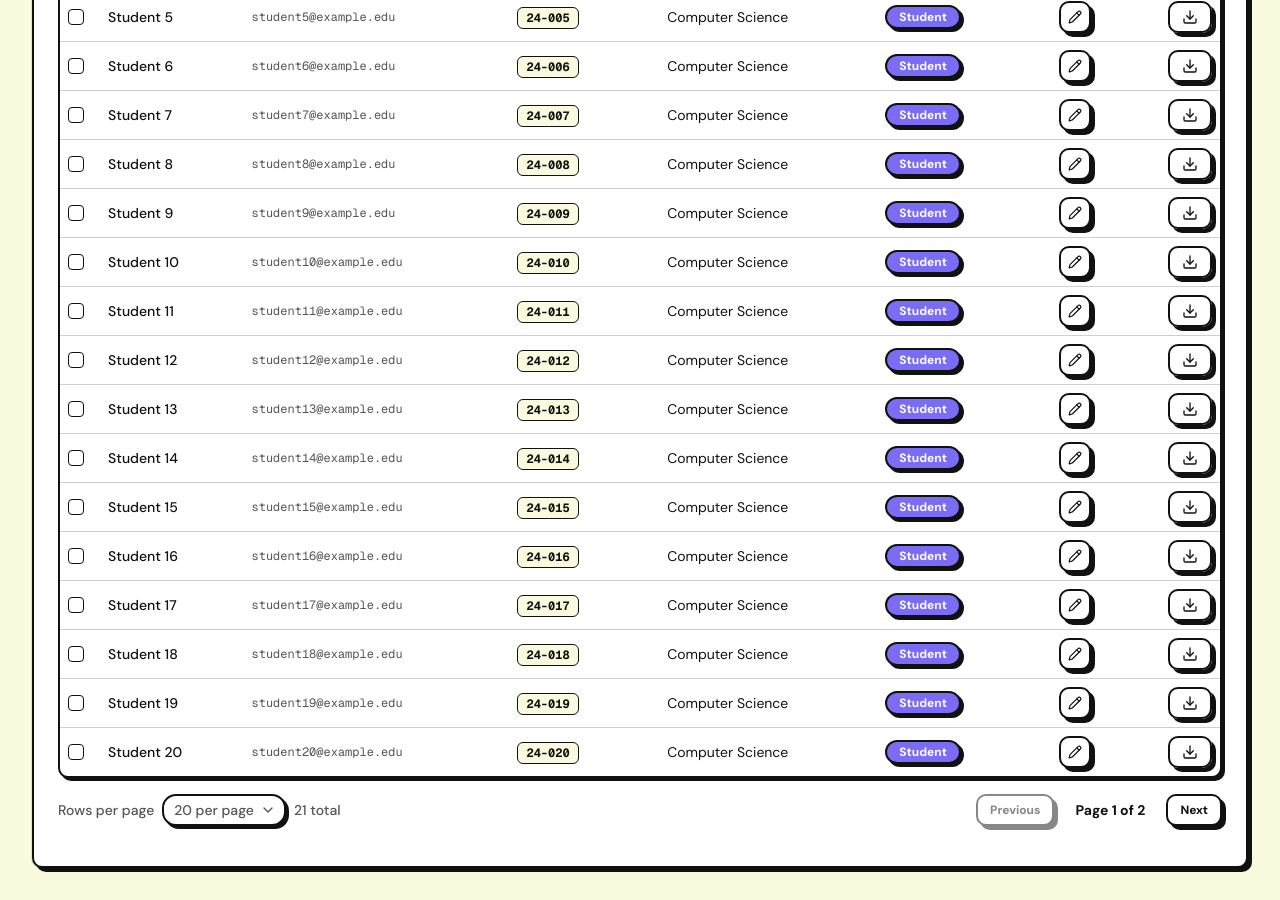
Test: Student roster pagination (Issue #218) › defaults to 20 rows and changes pages and page sizes without reloading
The width and height of the screenshot is (1280, 900).
(page scrolled)
expect the text "Student 20" is shown: met, box [100,728,244,776]
expect the text "Student 21" is not shown: met
Click the button with aria-label "Next page" at (1194, 810), box [1166,794,1222,826]
(page scrolled)
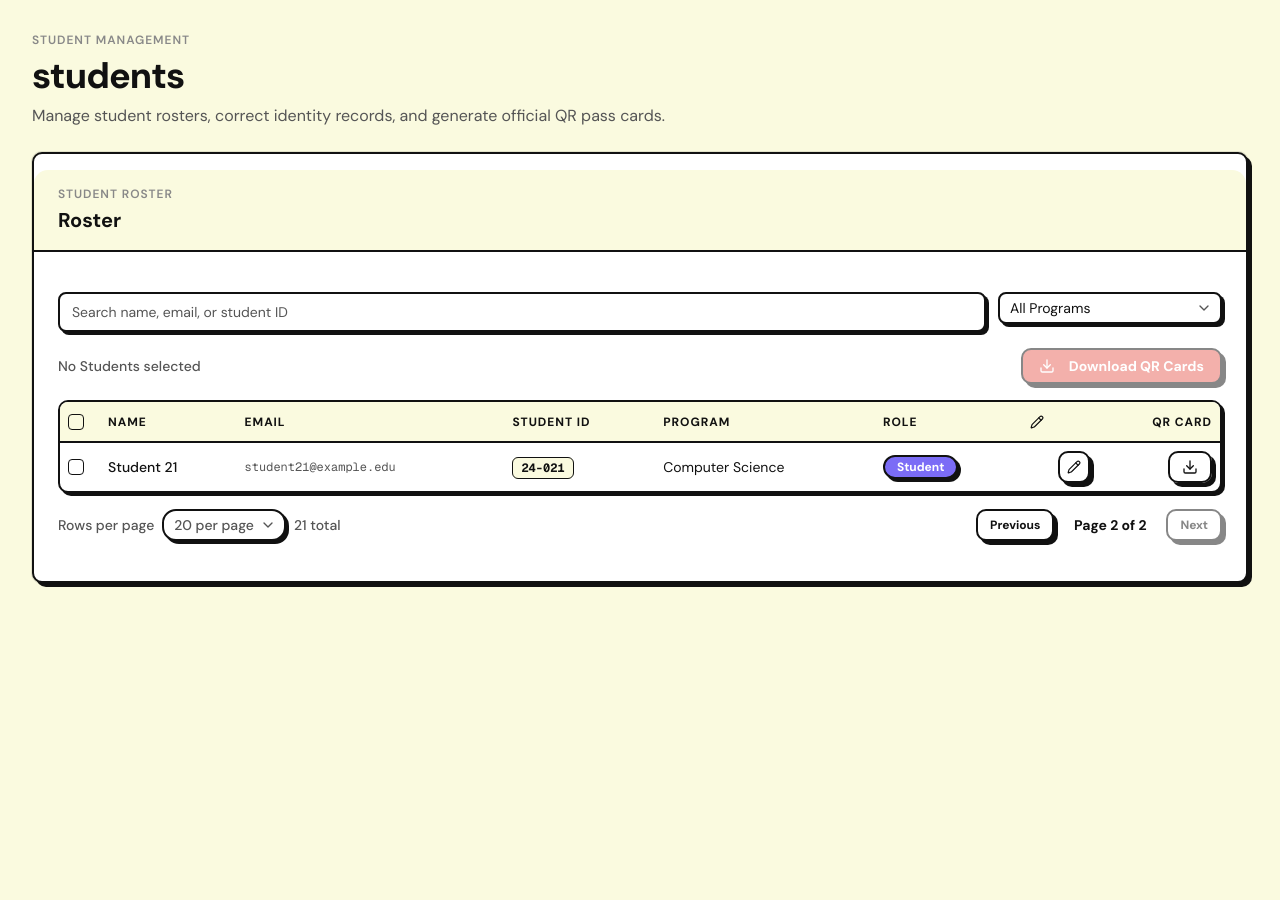
expect the text "Student 21" is shown: met, box [100,442,237,491]
expect the text "Student 1" is gone: met
Click the dropdown named "Rows per page" at (224, 525), box [162,509,286,541]
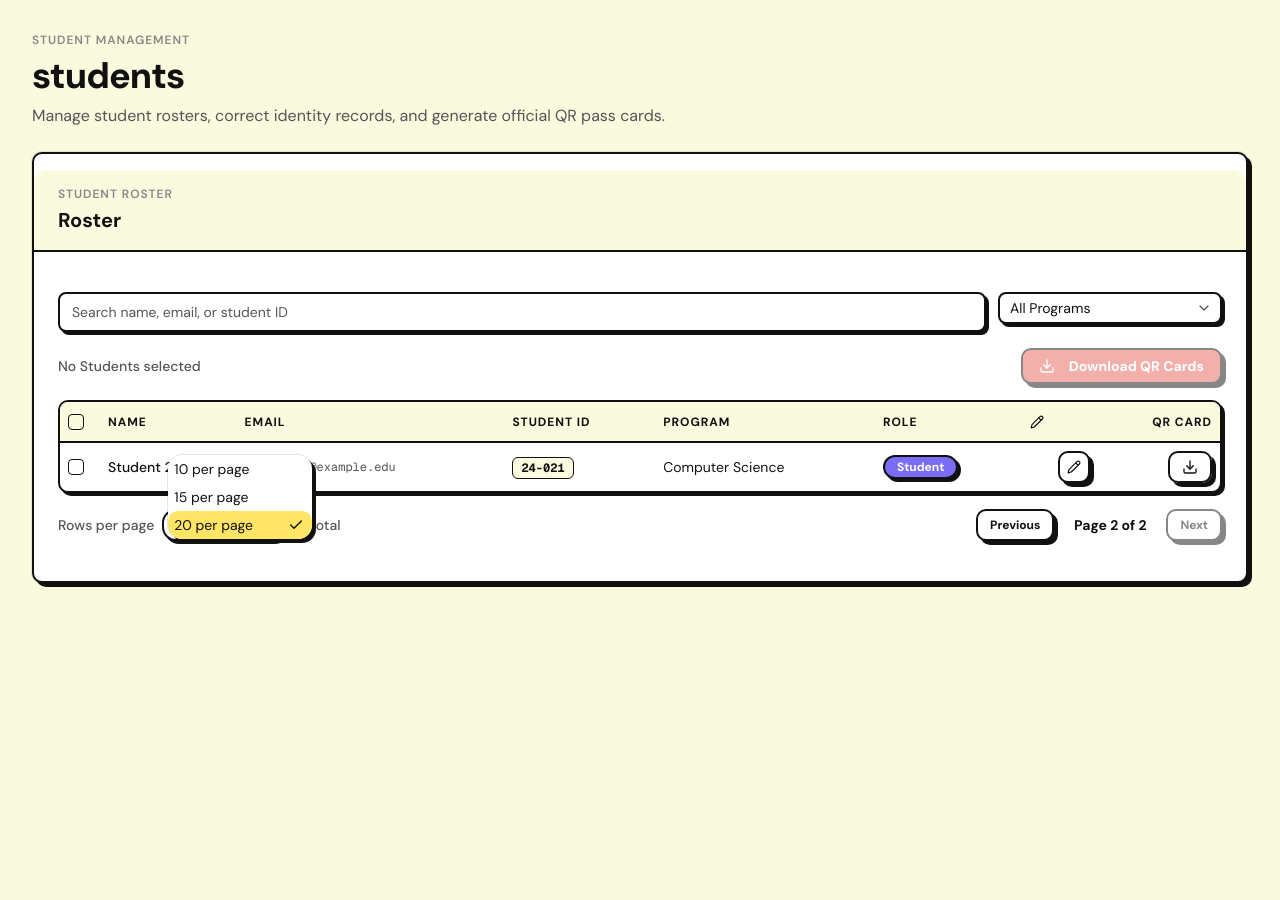
Click the option "10 per page" at (212, 469), box [174,460,250,478]
(page scrolled)
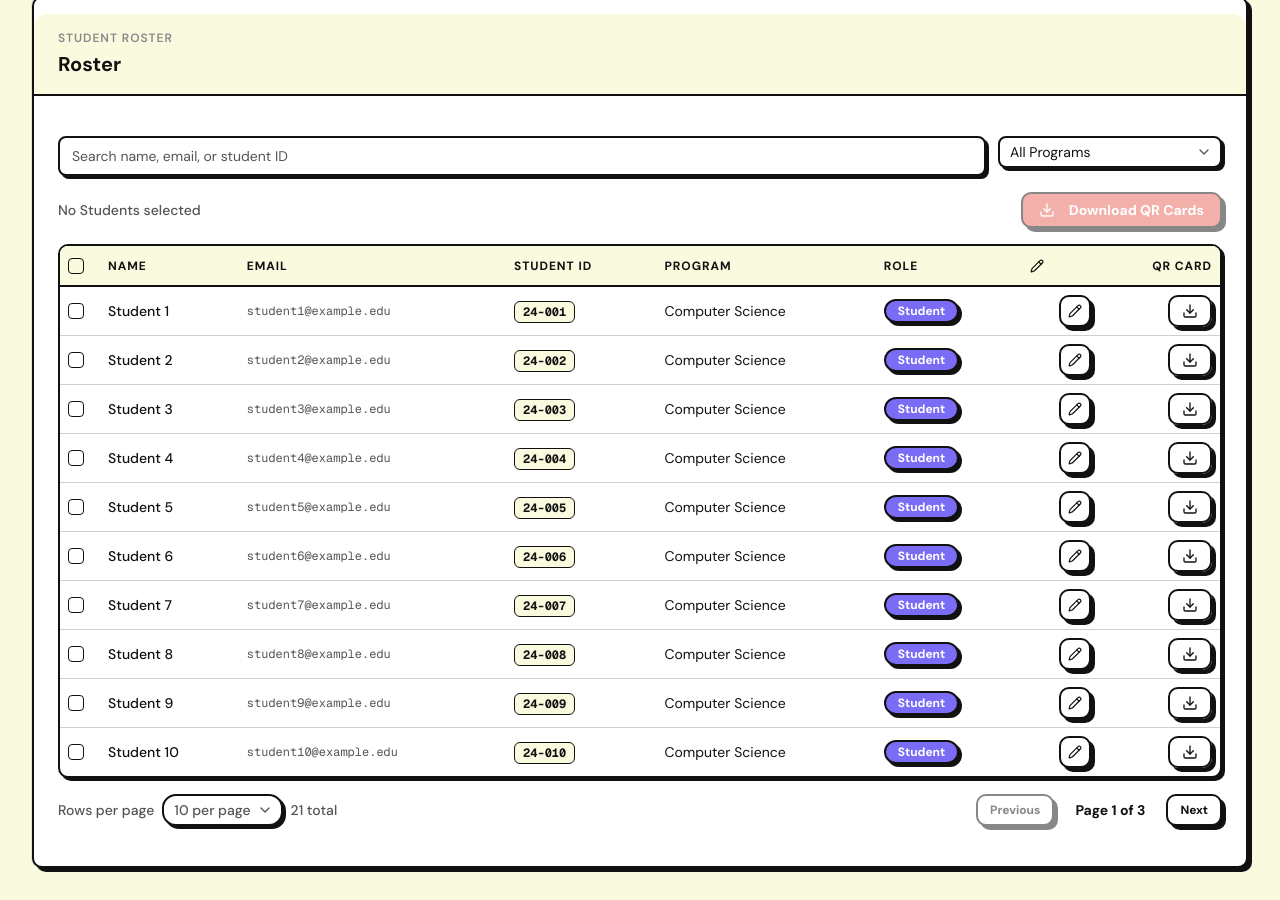
expect the text "Student 11" is not shown: met
expect the text "Page 1 of 3" is shown: met, box [1075,801,1145,819]
expect the text "Student 10" is shown: met, box [100,728,239,776]
